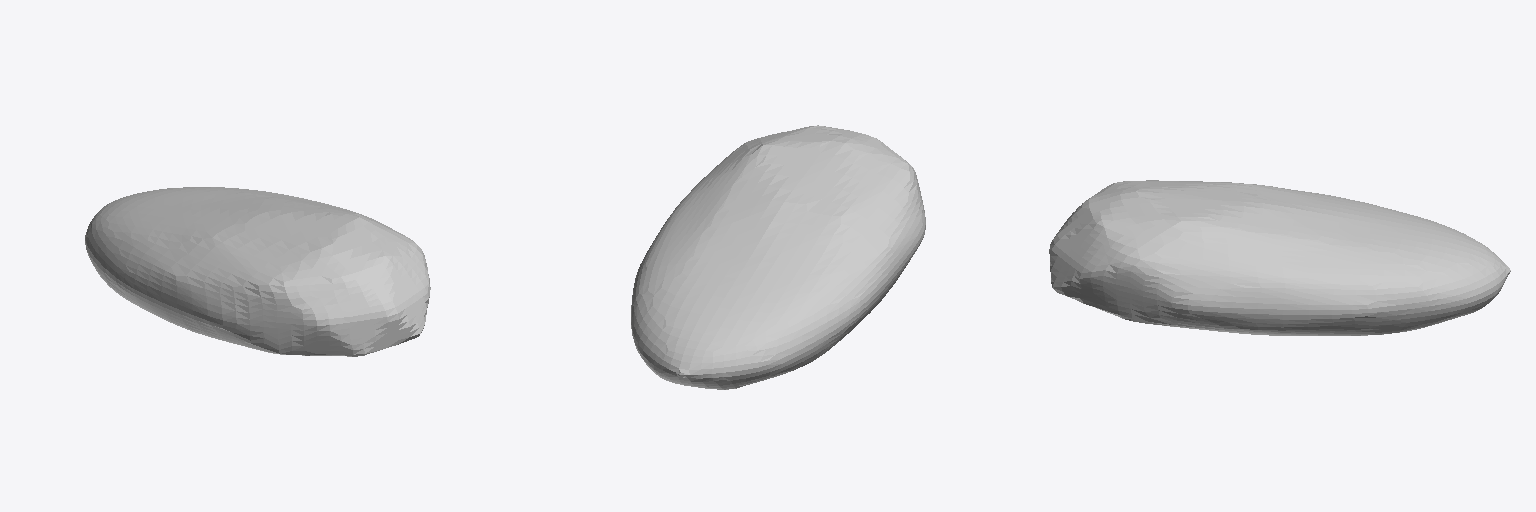
File: rearfeet.obj
The picture shows the model from 3 angles: view 1: azimuth 30°, elevation 25°; view 2: azimuth 150°, elevation 25°; view 3: azimuth 270°, elevation 25°; orthographic projection.
Visible parts, largest first — view 1: Icosphere.001; view 2: Icosphere.001; view 3: Icosphere.001.
Boxes of the visible parts, <box> form: Icosphere.001: <box>85,187,430,356</box>; Icosphere.001: <box>631,125,925,389</box>; Icosphere.001: <box>1049,180,1510,335</box>.
Size of the model in its own units: 0.0934 by 0.0495 by 0.1663.